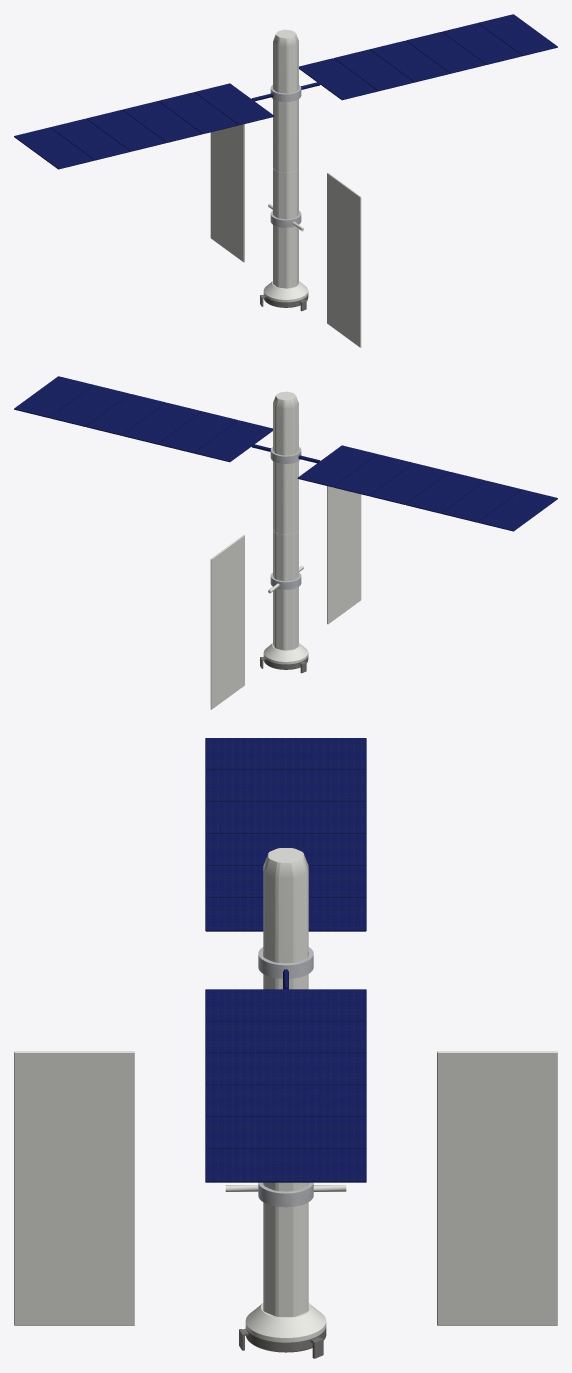
File: ax_grav_12_hub_mast.glb
3 views of the same model, one above another, from view 1: azimuth 30°, elevation 25°; view 2: azimuth 150°, elevation 25°; view 3: azimuth 270°, elevation 25° (orthographic). The views are drawn at different scales.
Visible parts, largest first — view 1: panel_solar_m, panel_solar_p, mast, panel_radiator_m, panel_radiator_p, mast_base, gimbals; view 2: panel_solar_m, panel_solar_p, mast, panel_radiator_p, panel_radiator_m, mast_base, gimbals; view 3: panel_radiator_p, panel_radiator_m, panel_solar_p, panel_solar_m, mast, mast_base, gimbals, base_collar.
Boxes of the visible parts, x1,y1,x2,y2 form: panel_solar_m: (14,83,274,169); panel_solar_p: (299,14,557,100); mast: (273,29,298,288); panel_radiator_m: (292,173,361,347); panel_radiator_p: (210,87,272,262); mast_base: (263,281,308,302); gimbals: (270,85,301,227); panel_solar_m: (297,445,557,531); panel_solar_p: (14,376,272,462); mast: (273,391,298,650); panel_radiator_p: (210,535,279,709); panel_radiator_m: (299,449,361,624); mast_base: (263,643,308,664); gimbals: (270,447,301,589); panel_radiator_p: (313,1051,557,1325); panel_radiator_m: (14,1051,258,1325); panel_solar_p: (205,969,366,1182); panel_solar_m: (205,738,366,931); mast: (263,848,308,1316); mast_base: (245,1303,326,1342); gimbals: (258,947,313,1207); base_collar: (245,1327,326,1352).
Size of the model in its own units: 20.8 by 10.68 by 10.8.
4 materials, 3 textured.
